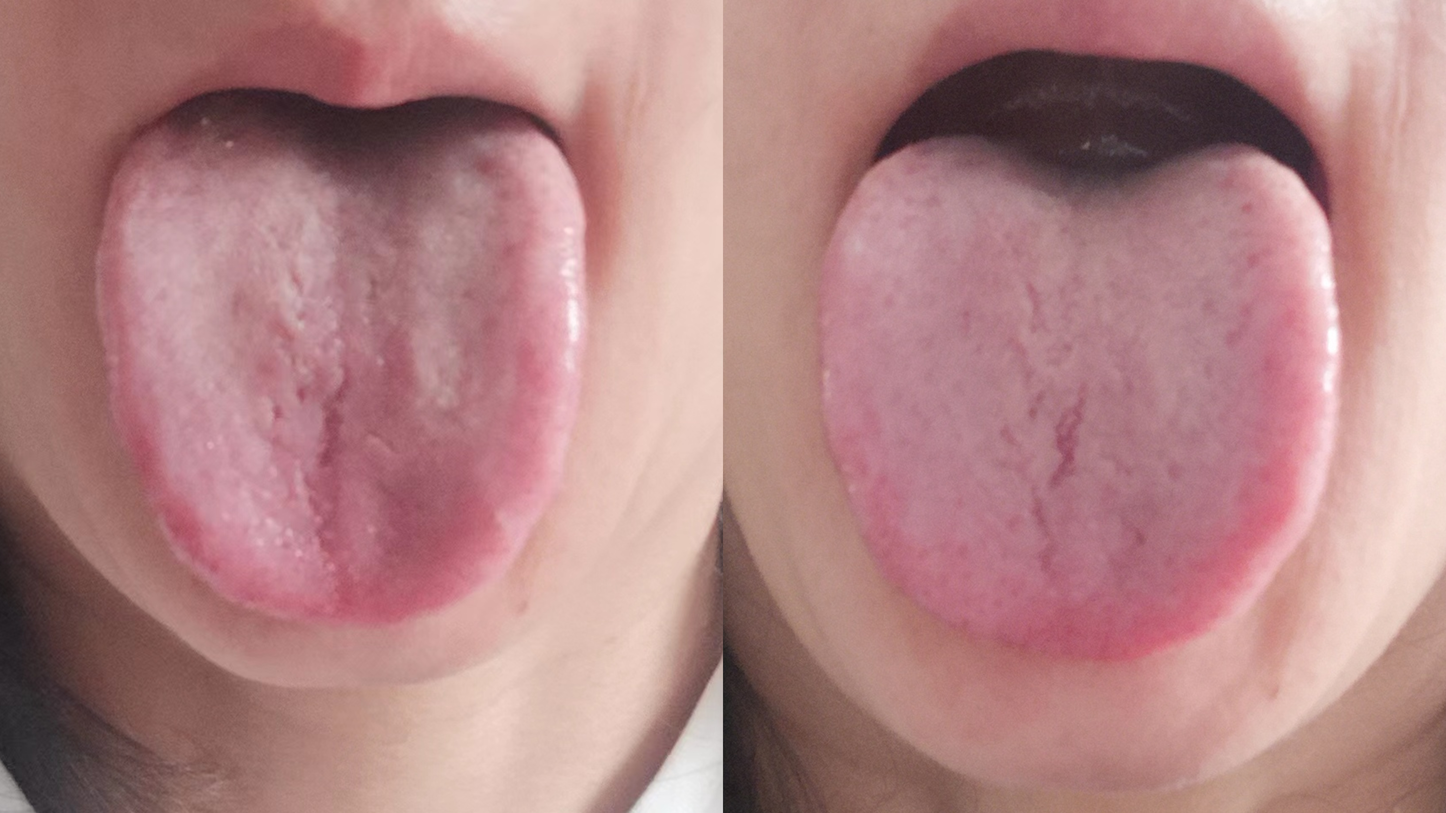baitaishe: (821, 135, 1340, 666), (94, 91, 587, 626)
liewenshe: (307, 359, 364, 615), (1025, 383, 1086, 583)
